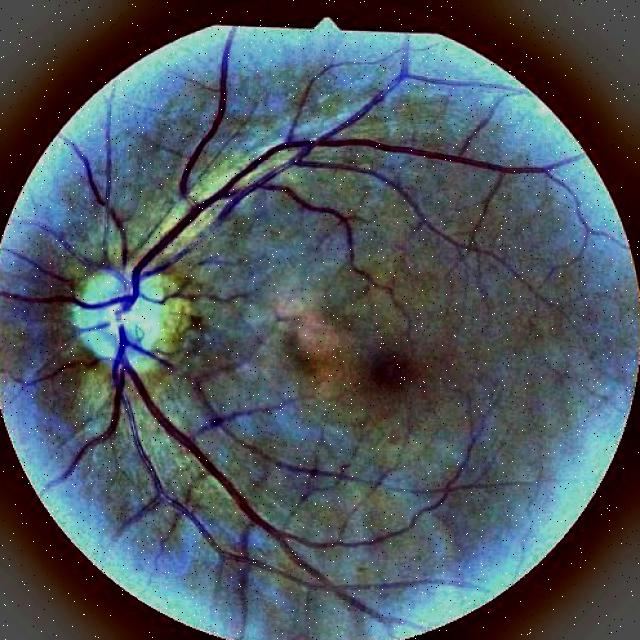Macula: (372, 352, 412, 387)
Nerves: (37, 323, 483, 640), (116, 41, 570, 318)
Optic Disk: (71, 297, 192, 359), (142, 276, 166, 293)
